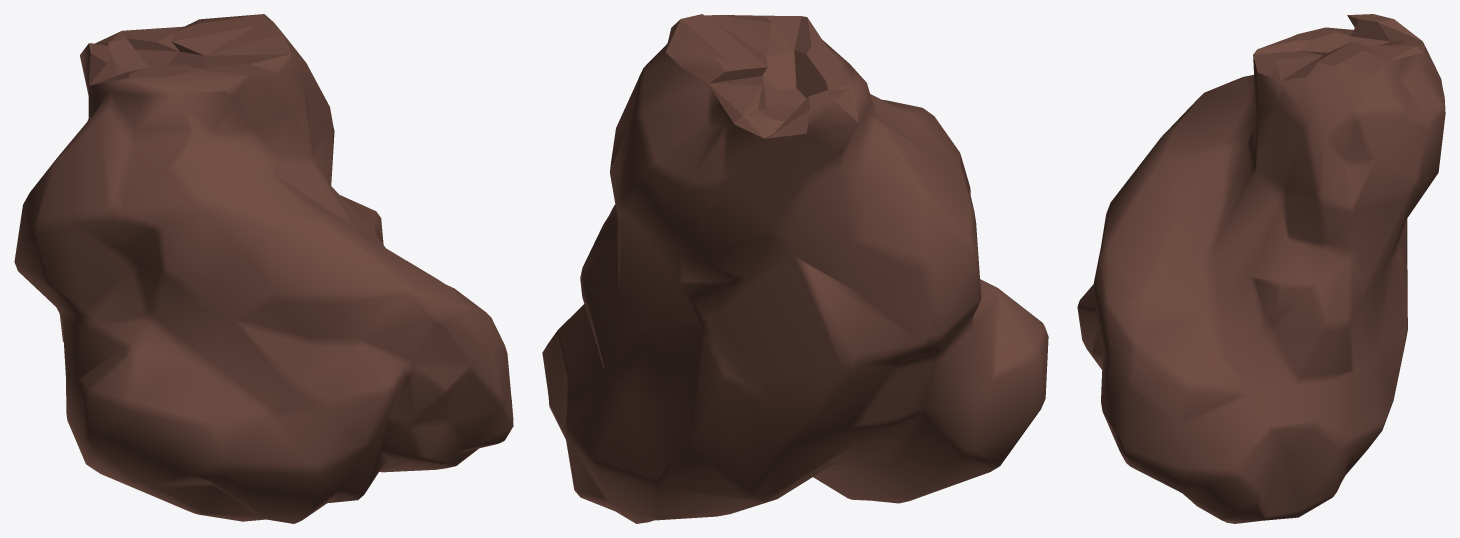
Rendered from p_mesh_hvs_stalagmite_large02_destruction_part03.fbx.
The picture shows the model from 3 angles, left to right: view 1: azimuth 30°, elevation 25°; view 2: azimuth 150°, elevation 25°; view 3: azimuth 270°, elevation 25°; orthographic projection. The views are drawn at different scales.
Parts seen in each view (by area): view 1: p_large02_part3; view 2: p_large02_part3; view 3: p_large02_part3.
Boxes of the visible parts, x1,y1,x2,y2 form: p_large02_part3: [14, 14, 513, 523]; p_large02_part3: [542, 14, 1048, 523]; p_large02_part3: [1077, 14, 1445, 523].
Size of the model in its own units: 8 by 8.38 by 6.76.
